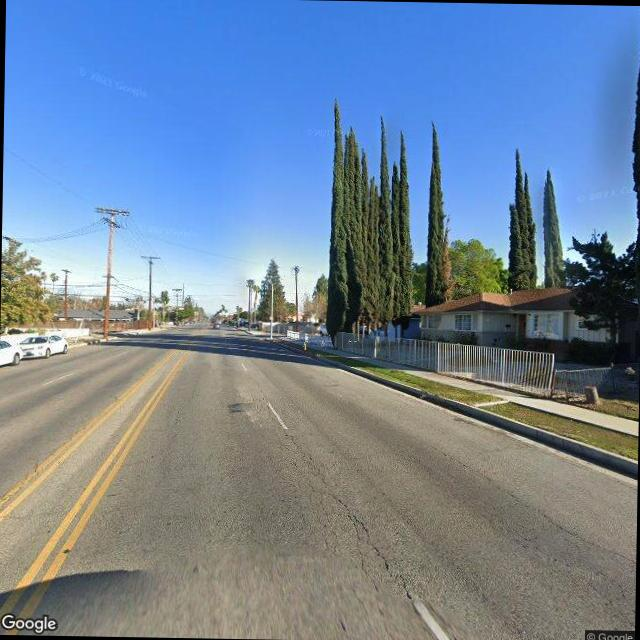crack: (269, 426, 418, 605), (426, 439, 523, 504)
